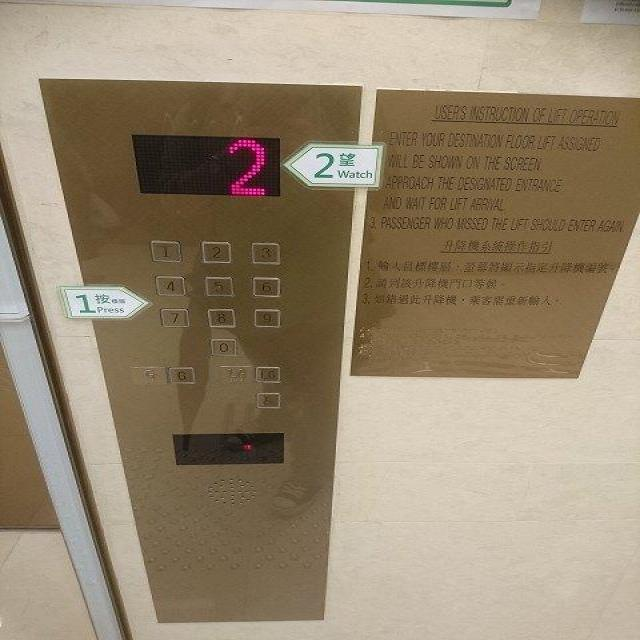0: (207, 334, 237, 357)
1: (147, 237, 184, 263)
2: (197, 238, 232, 264)
3: (247, 239, 281, 265)
4: (150, 271, 187, 297)
5: (200, 273, 236, 297)
6: (248, 273, 283, 298)
7: (156, 305, 191, 328)
8: (204, 306, 237, 328)
9: (249, 306, 284, 328)
G: (124, 363, 168, 386), (165, 364, 196, 384)
LG: (214, 363, 254, 385), (254, 364, 282, 382)
blur: (252, 389, 281, 410)
led: (124, 130, 284, 199), (170, 430, 286, 465)
